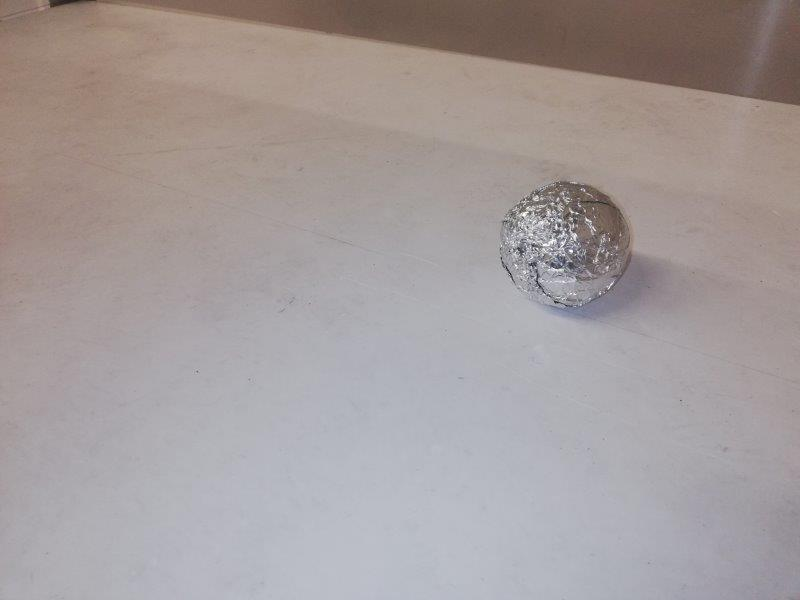bianca: (498, 178, 634, 311)
